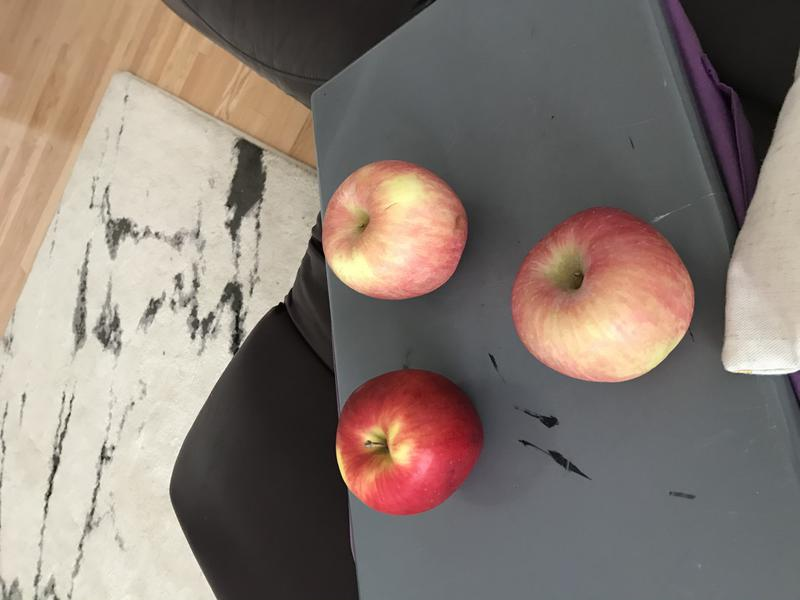red_apple: (504, 203, 707, 393), (304, 150, 475, 303), (325, 365, 494, 518)
